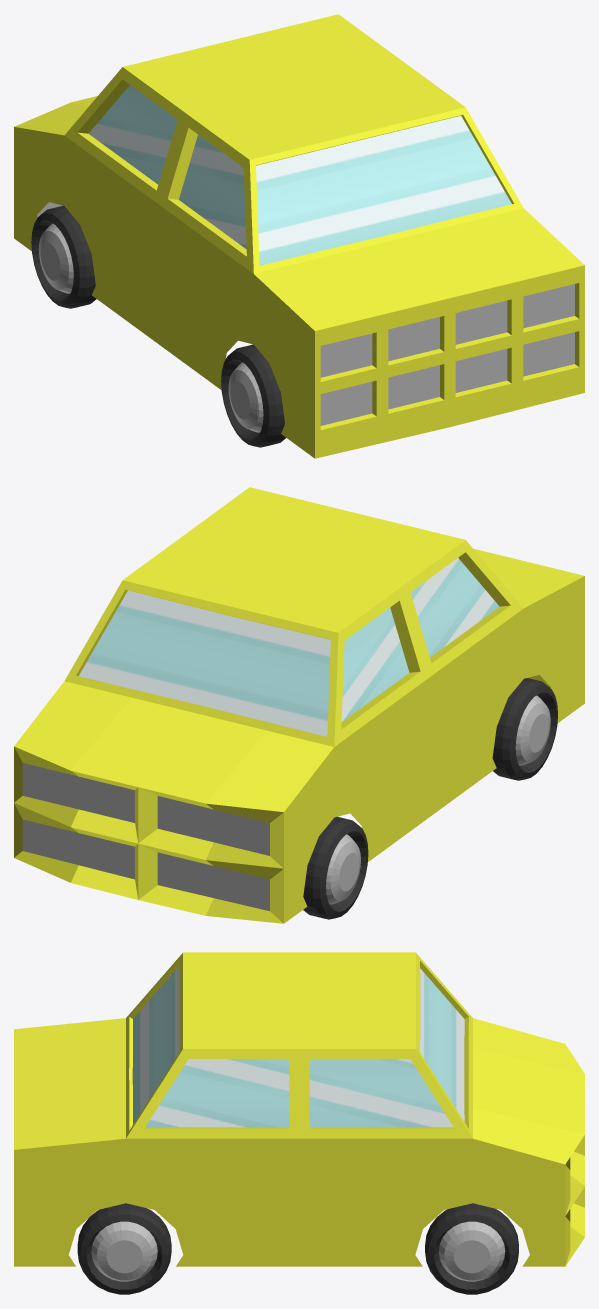
Rendered from Props_Car_05.fbx.
3 views of the same model, one above another, from view 1: azimuth 30°, elevation 25°; view 2: azimuth 150°, elevation 25°; view 3: azimuth 270°, elevation 25° (orthographic). The views are drawn at different scales.
Visible parts, largest first — view 1: Props_Car_05; view 2: Props_Car_05; view 3: Props_Car_05.
Part boxes in pixels (x1,y1,x2,y2): Props_Car_05: [14, 14, 584, 458]; Props_Car_05: [14, 487, 584, 923]; Props_Car_05: [14, 952, 584, 1294].
Bounding box in the file's own units: 111 × 89.53 × 200.
